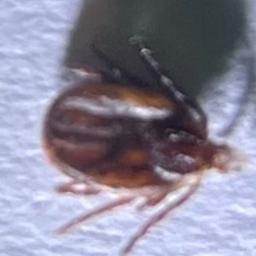Rhipicephalus sanguineus: (40, 43, 226, 255)
